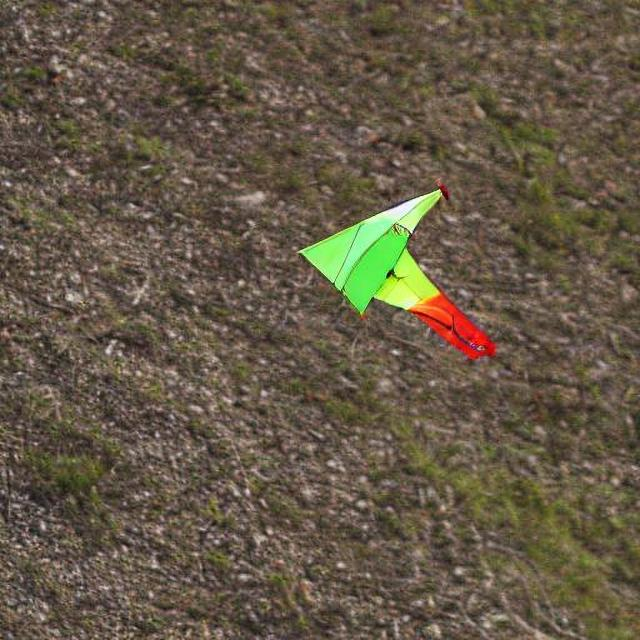floating object: (306, 180, 496, 356)
